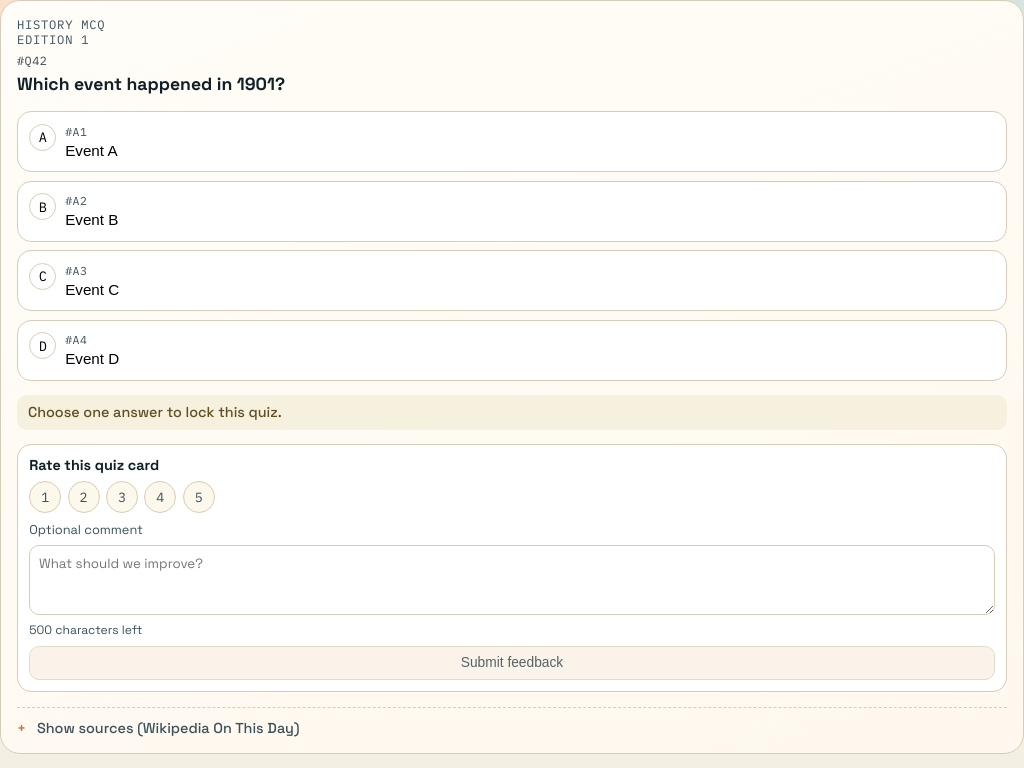
Scenario: QuizCard feedback › shows retry state when submit fails
Click the button named "3 stars".
click(122, 497)  # box [106,481,138,513]
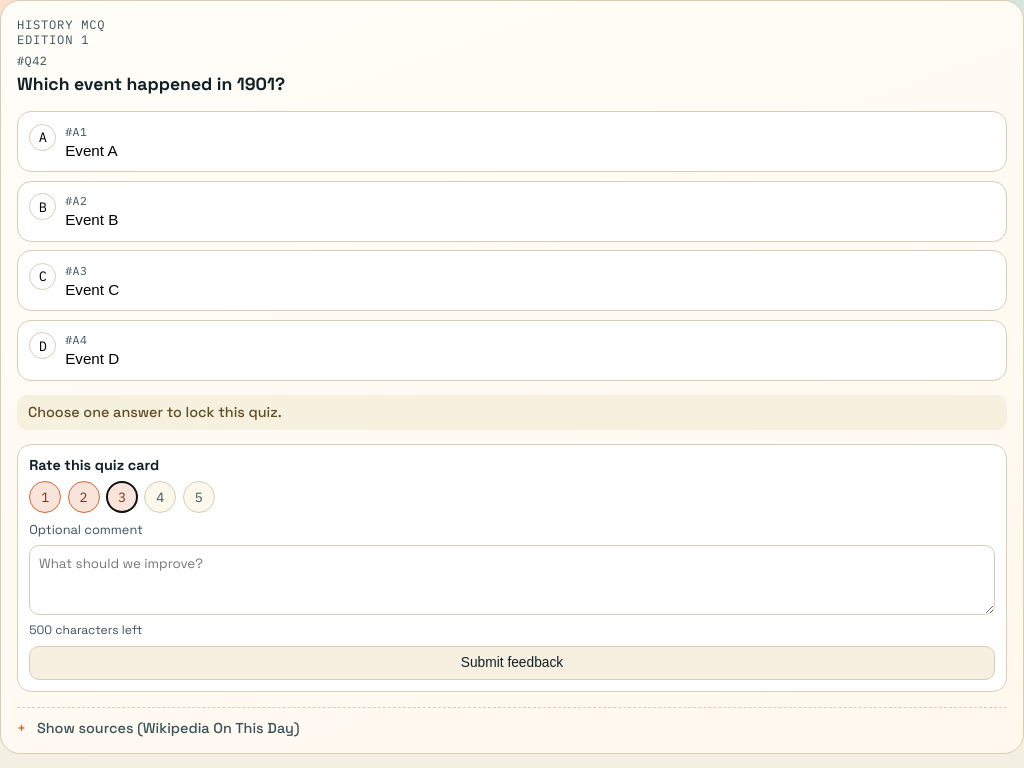
Click the button "Submit feedback".
click(512, 663)  # box [29,646,995,680]
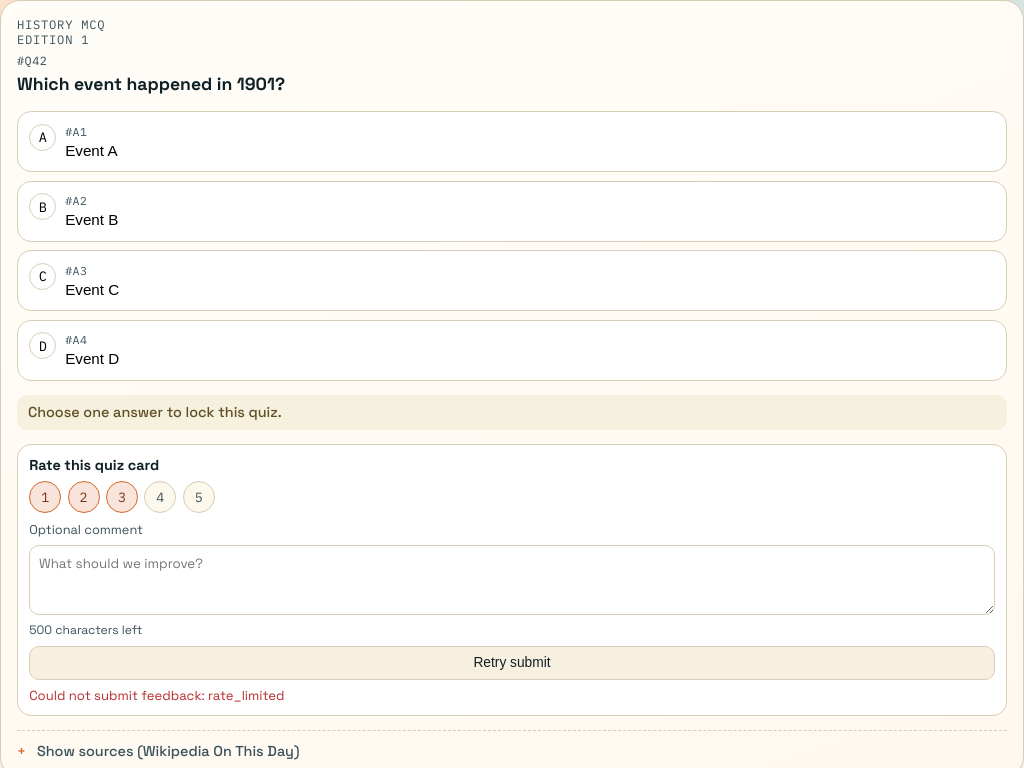
Expected: the text "Could not submit feedback: rate_limited" is shown, [29,686,285,704]
Expected: the button "Retry submit" is shown, [29,646,995,680]
